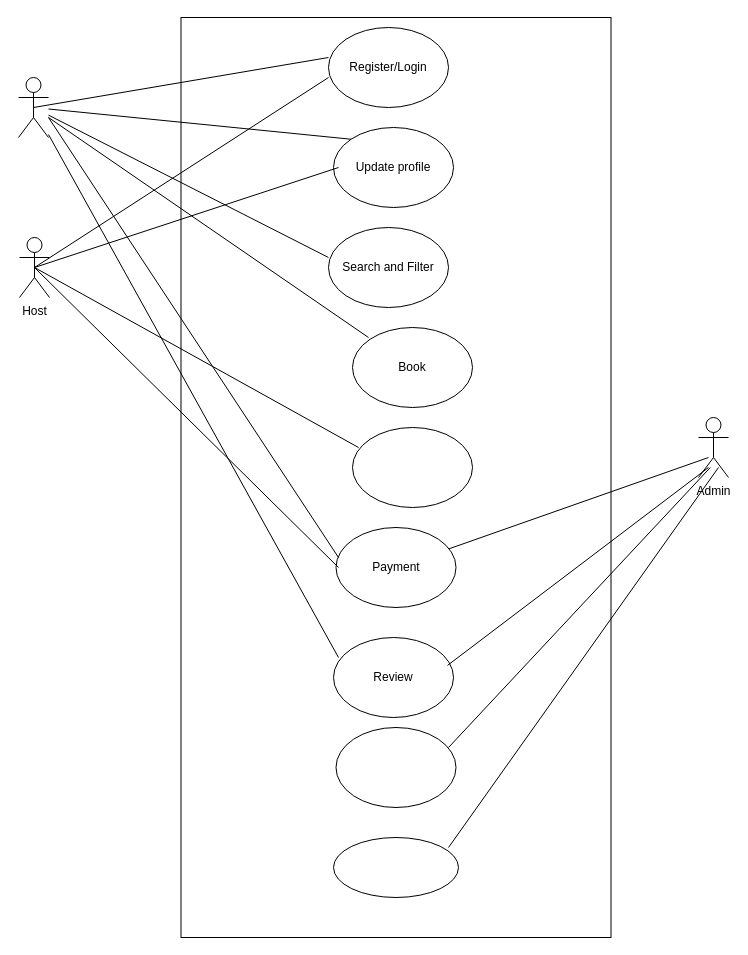
The diagram is 748 pixels wide and 955 high, and some of its shapes have lost their labels. The shapes that lost their labels are listed below. From the top down, each one's centre as x and y in pixels, then its label:
the point at 33,107: Guest
the point at 412,467: Edit property listings
the point at 395,767: manage users
the point at 395,867: Manage propery listing
